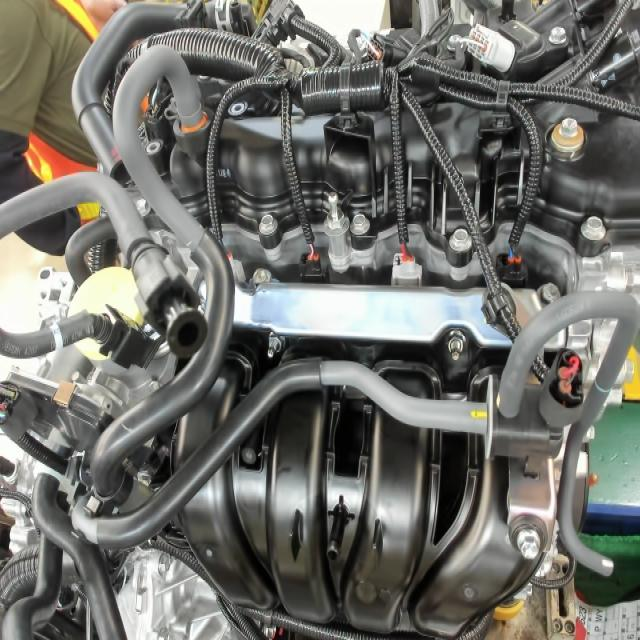Hose Canister-HJ: (592, 375, 616, 403)
Tube Sub Assy Fuel-W: (44, 321, 69, 354)
